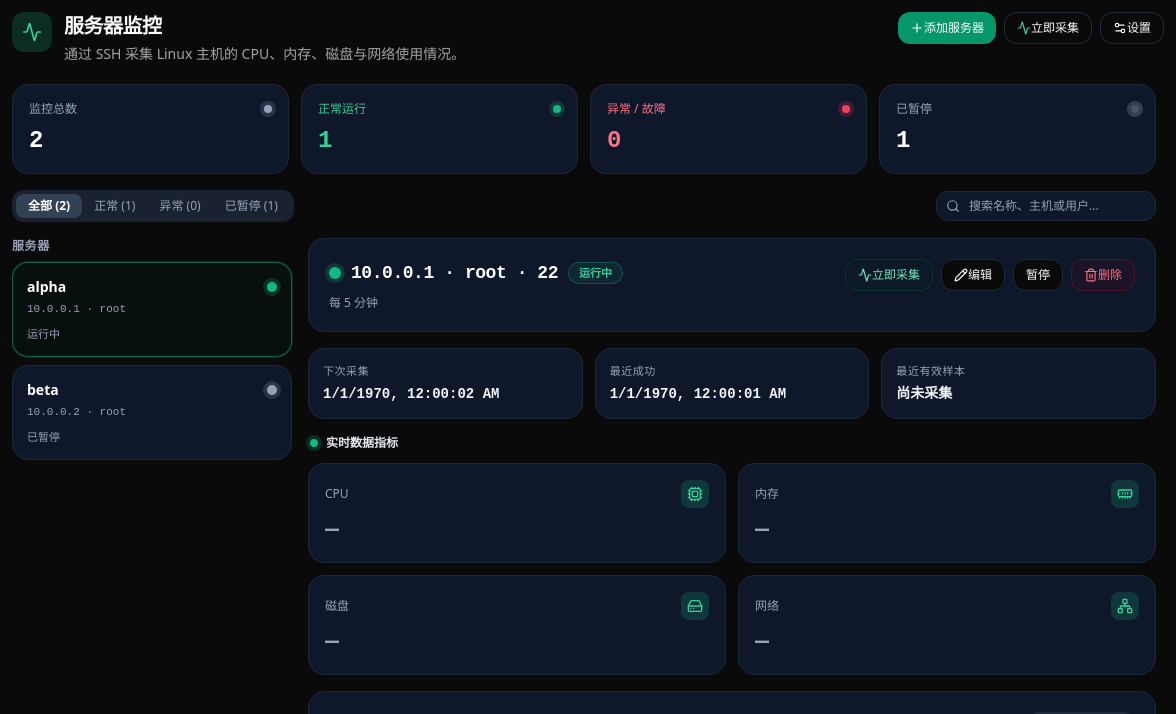
Test case: ServerMonitorTool › status filter button filters the target list
The image size is (1176, 714).
Expected: the text "alpha" is shown, [27, 277, 66, 297]
Expected: the text "beta" is shown, [27, 380, 59, 400]
// 点击已暂停筛选（筛选胶囊带有数量标签）
Click the button with test id "filter-paused" at x=251, y=206, box [213, 194, 290, 218]
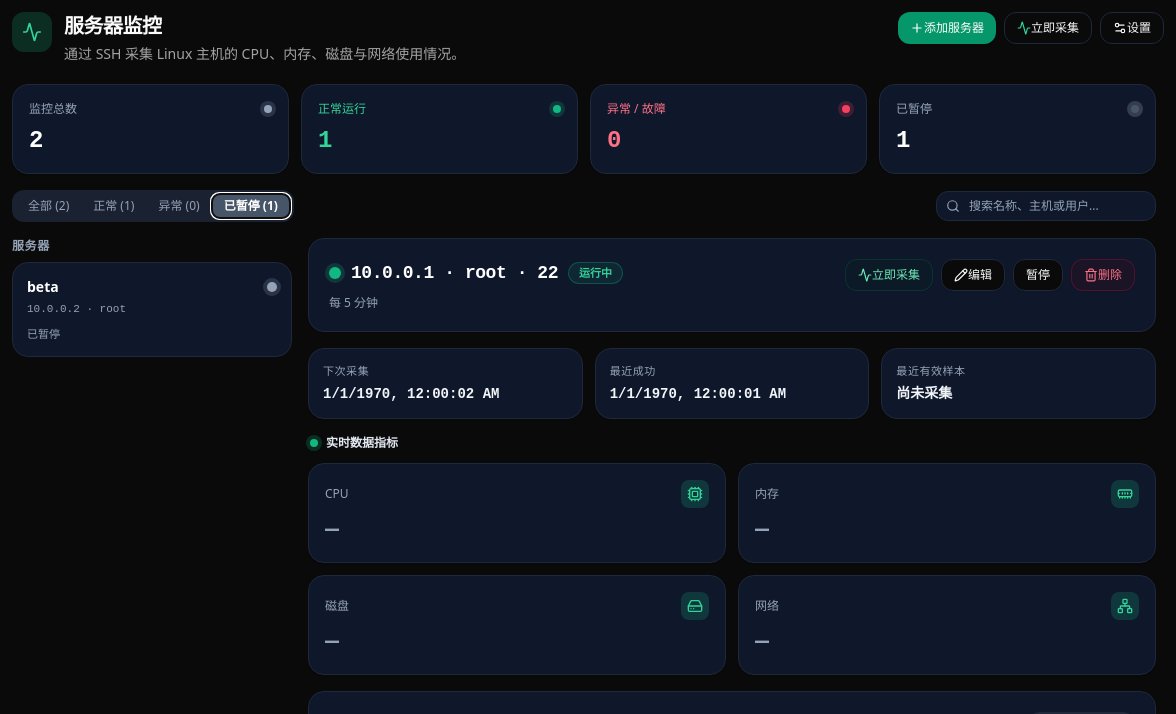
Expected: the text "beta" is shown, [27, 277, 59, 297]
Now the button "alpha" is gone
